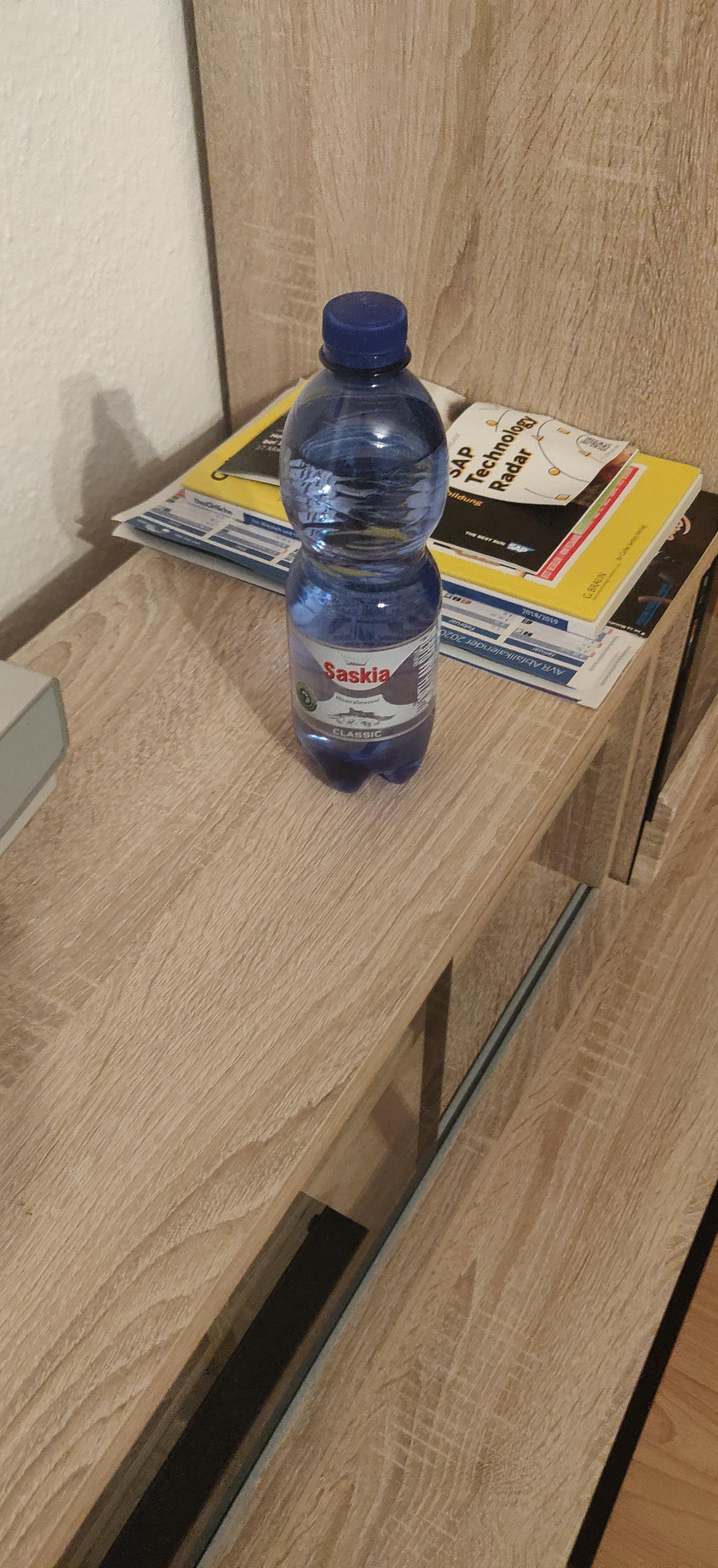bottle-plastic: (275, 291, 448, 794)
